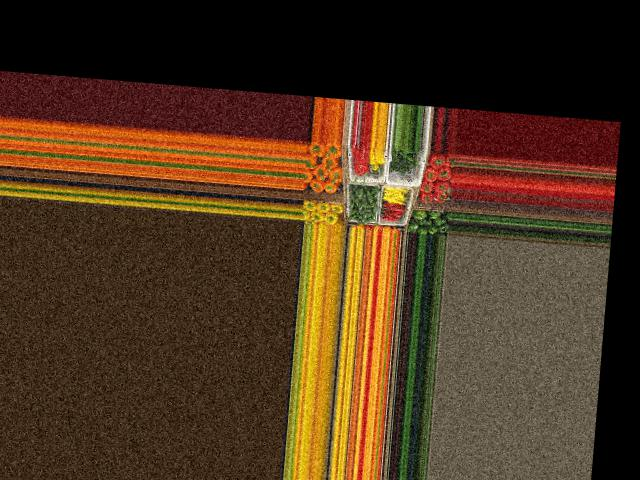bell_pepper: (426, 207, 442, 224)
